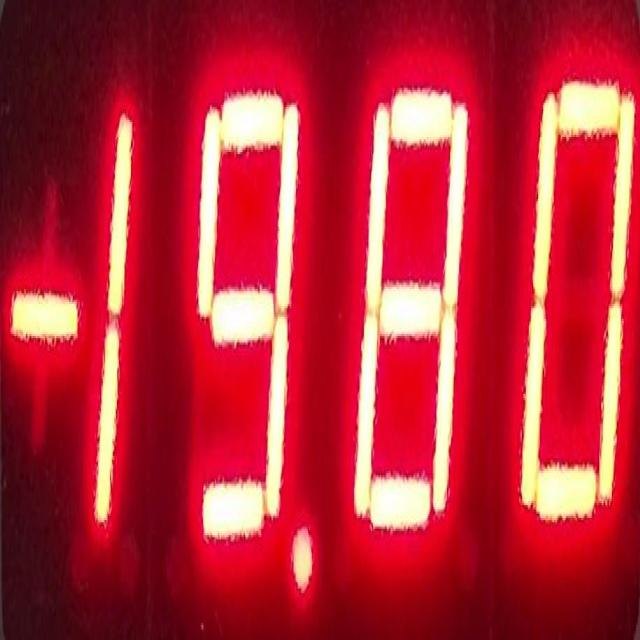.: (3, 271, 86, 365), (290, 522, 316, 602)
0: (521, 70, 635, 528)
1: (92, 96, 137, 544)
8: (355, 81, 469, 534)
9: (194, 83, 302, 547)
